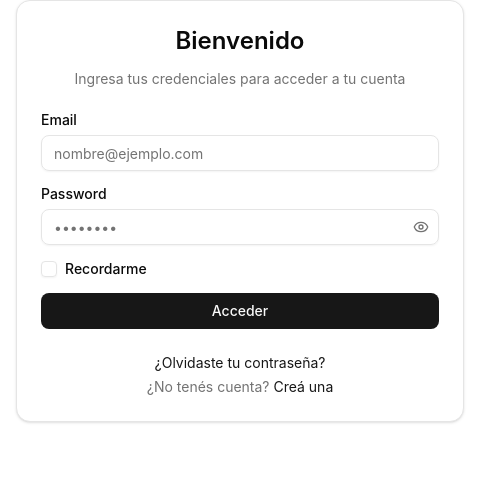
Scenario: LoginForm › should show error messages for empty fields
This screenshot has width=481, height=496.
What coordinates should you click on to do the following:
click the button "Acceder"
I would click on:
 (240, 311)
Its box is [41,293,439,329].
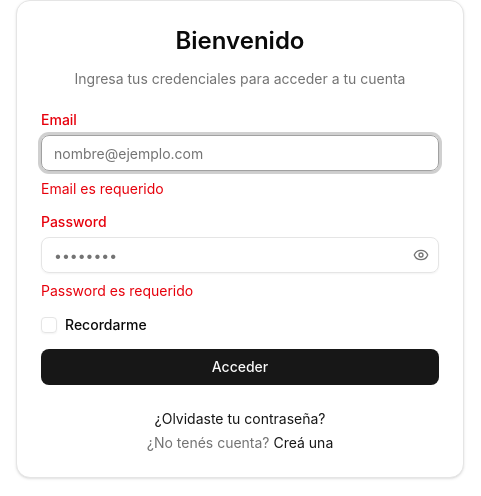
Now the text "Email es requerido" is shown, box [41,180,164,197]
Now the text "Password es requerido" is shown, box [41,282,193,299]
